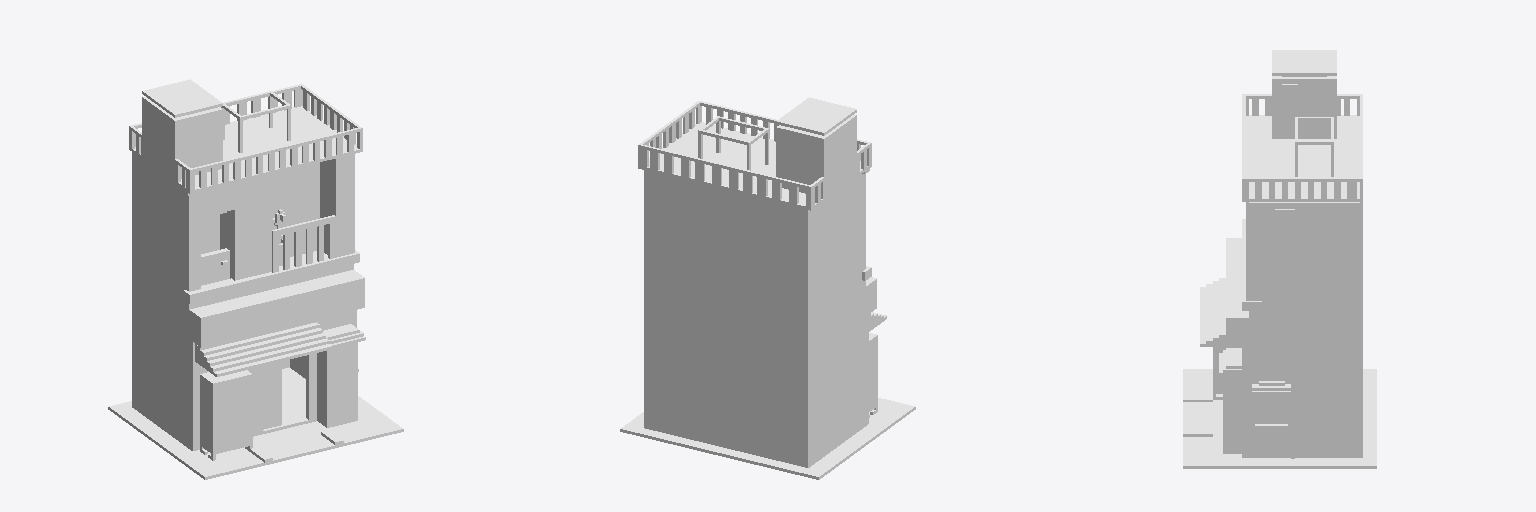
File: Edificio1.obj
3 renders of one model, left to right at view 1: azimuth 30°, elevation 25°; view 2: azimuth 150°, elevation 25°; view 3: azimuth 270°, elevation 25°, orthographic.
Parts seen in each view (by area): view 1: object 1; view 2: object 1; view 3: object 1.
Boxes of the visible parts, x1=… form: object 1: x1=108, y1=79, x2=403, y2=479; object 1: x1=620, y1=97, x2=915, y2=479; object 1: x1=1183, y1=50, x2=1376, y2=468.
Size of the model in its own units: 7 by 11.1 by 5.9.